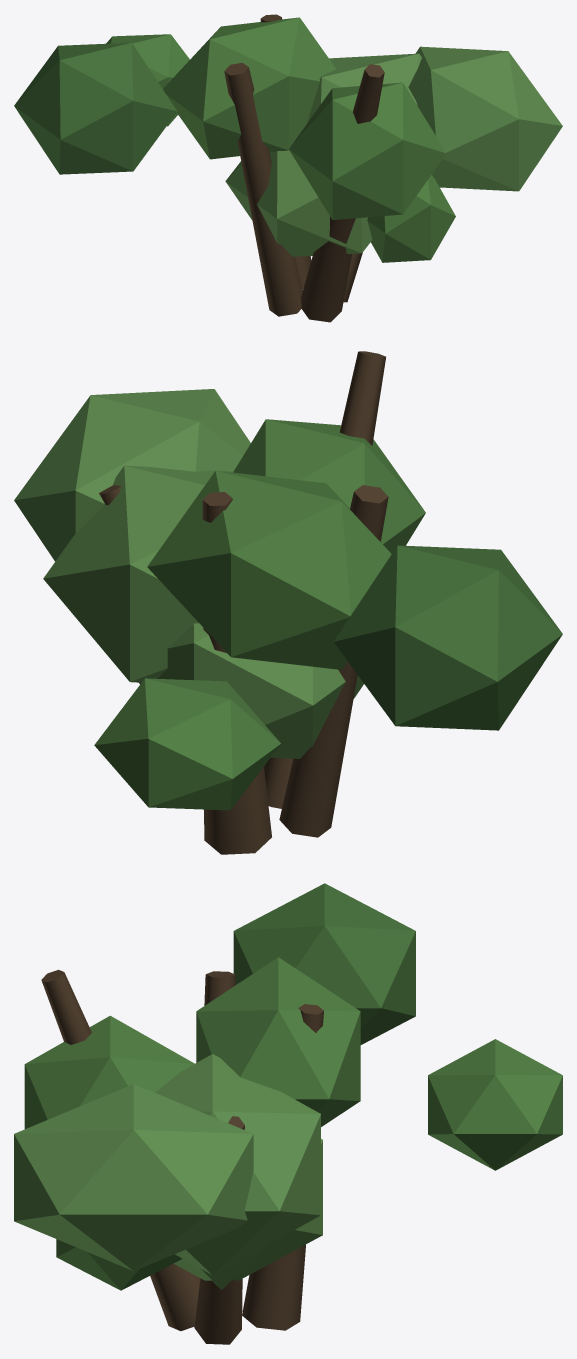
File: shrub_lush_low.glb
The picture shows the model from 3 angles, top to bottom: view 1: azimuth 30°, elevation 25°; view 2: azimuth 150°, elevation 25°; view 3: azimuth 270°, elevation 25°; orthographic projection. The views are drawn at different scales.
Bounding box in the file's own units: 1.58 × 1.05 × 1.49.
